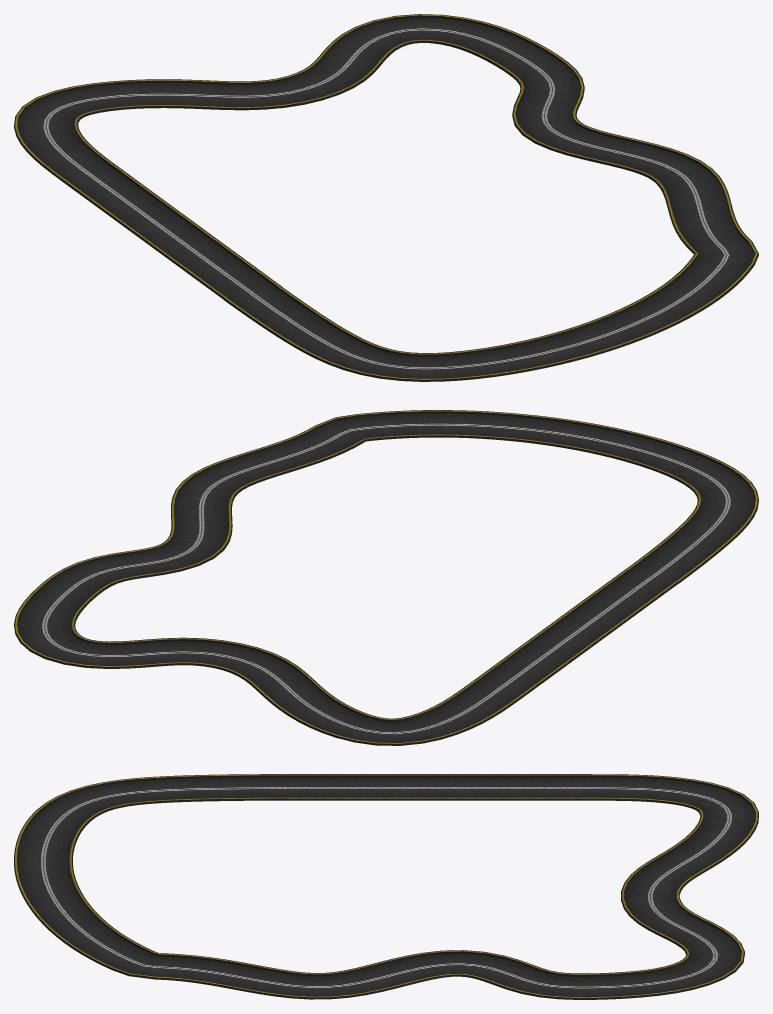
The model's file is Track3.fbx.
3 renders of one model, top to bottom at view 1: azimuth 30°, elevation 25°; view 2: azimuth 150°, elevation 25°; view 3: azimuth 270°, elevation 25°, orthographic. The views are drawn at different scales.
Visible parts, largest first — view 1: Plane; view 2: Plane; view 3: Plane.
Part boxes in pixels (x1=…): Plane: x1=14, y1=14, x2=758, y2=381; Plane: x1=14, y1=410, x2=758, y2=745; Plane: x1=14, y1=774, x2=758, y2=999.
Size of the model in its own units: 1803 by 6.12 by 2530.
